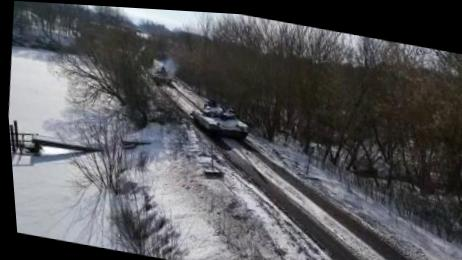tank: (188, 99, 254, 144)
